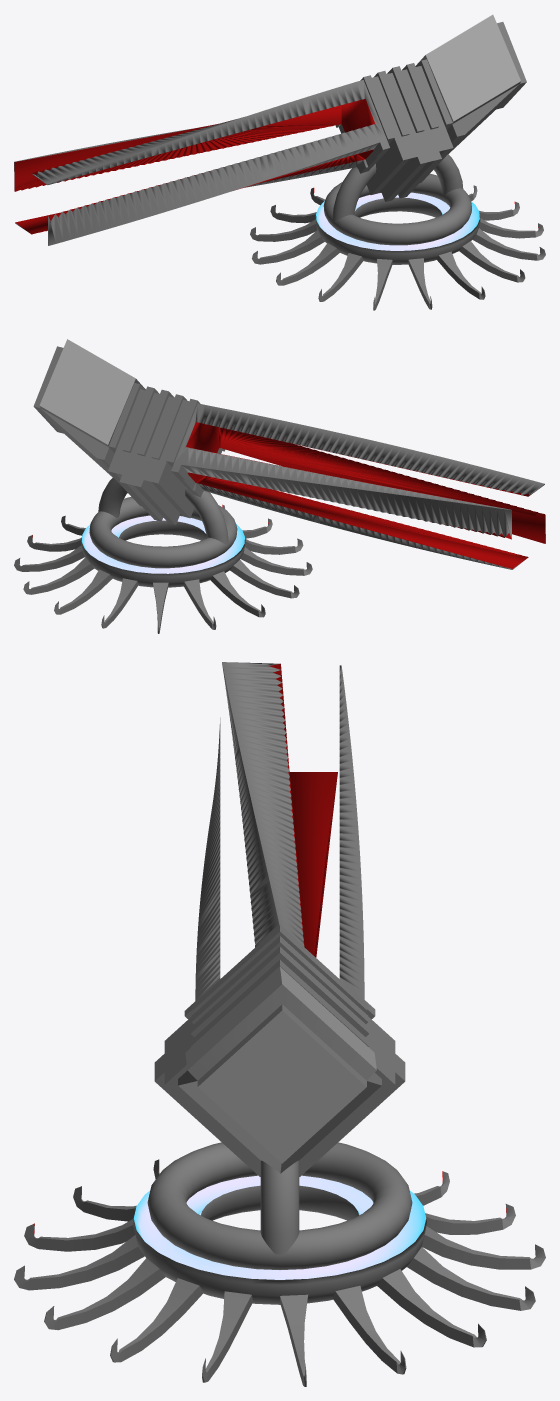
Rendered from missileLauncher.fbx.
3 renders of one model, top to bottom at view 1: azimuth 30°, elevation 25°; view 2: azimuth 150°, elevation 25°; view 3: azimuth 270°, elevation 25°, orthographic. The views are drawn at different scales.
Visible parts, largest first — view 1: Top, Bottom; view 2: Top, Bottom; view 3: Top, Bottom.
Part boxes in pixels (<box>): Top: <box>14,14,526,245</box>; Bottom: <box>250,185,545,310</box>; Top: <box>33,339,545,569</box>; Bottom: <box>14,504,312,633</box>; Top: <box>147,662,412,1269</box>; Bottom: <box>14,1159,545,1386</box>.
Size of the model in its own units: 1706 by 889 by 698.
